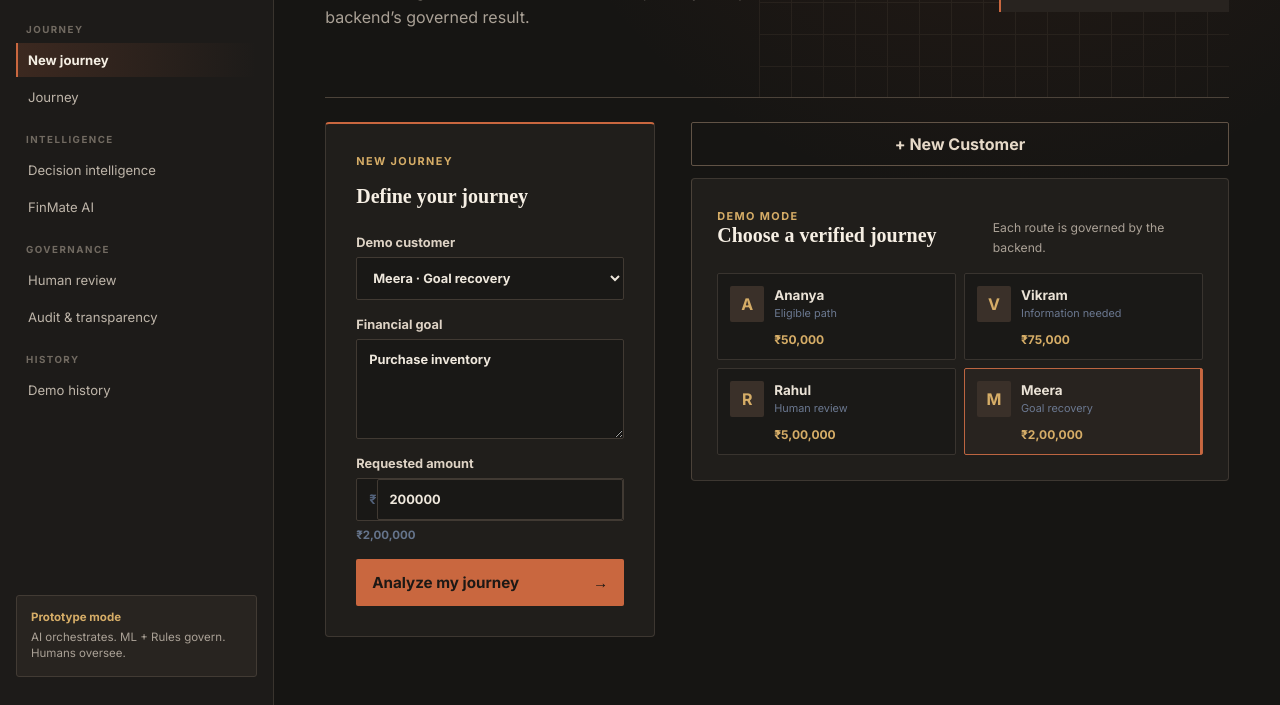
Test case: FinMate journey UI › renders an actionable returned recovery path
The width and height of the screenshot is (1280, 705).
(page scrolled)
Step 1. Click the button "Analyze my journey →" → [490, 582], box [356,559,624,606]
(page scrolled)
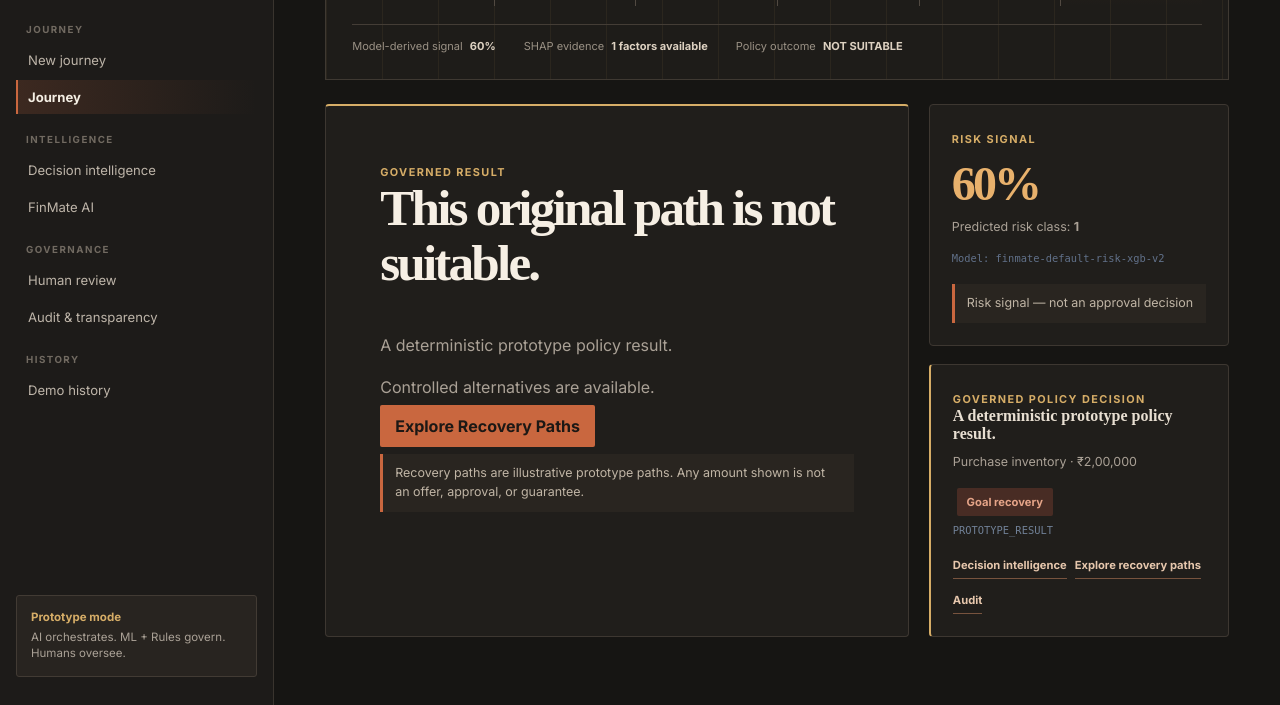
Step 2. Click the link "Explore Recovery Paths" → [488, 426], box [380,405,595,447]
(page scrolled)
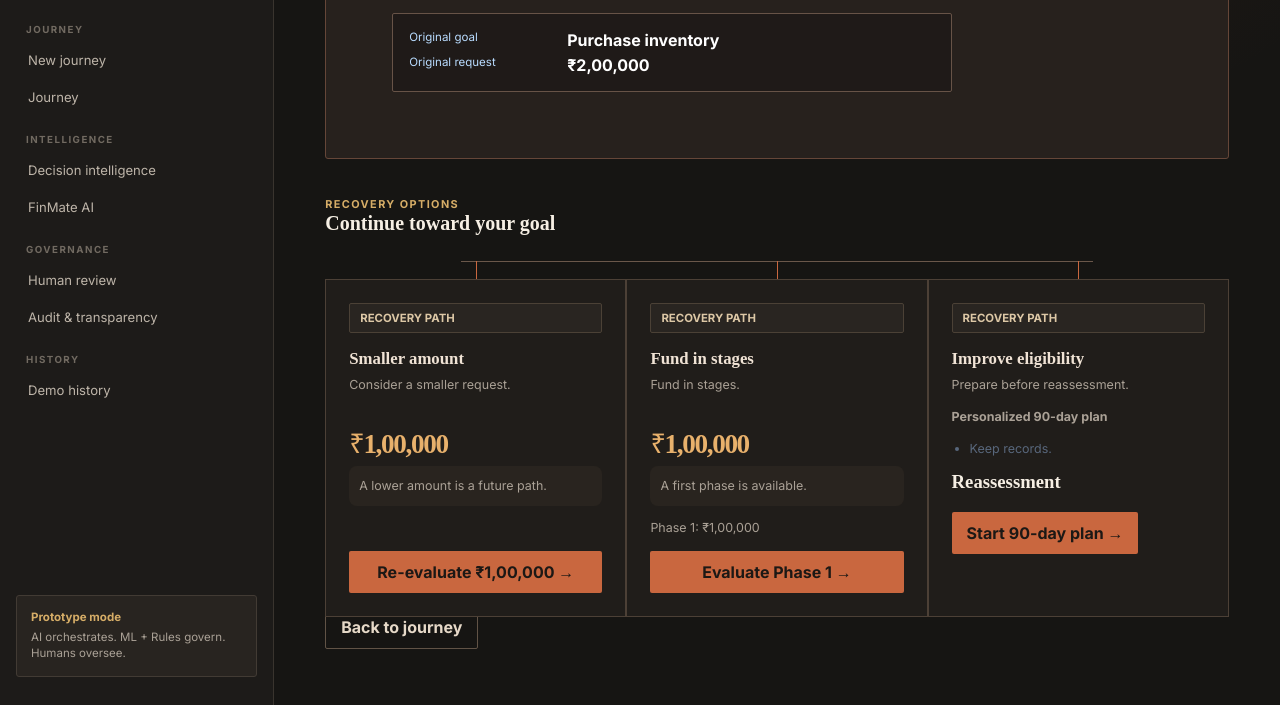
Expected: the heading "Continue toward your goal" is shown, [325,212,555,235]
Expected: the heading "Smaller amount" is shown, [349,349,464,368]
Expected: the text "A lower amount is a future path." is shown, [349,466,602,506]
